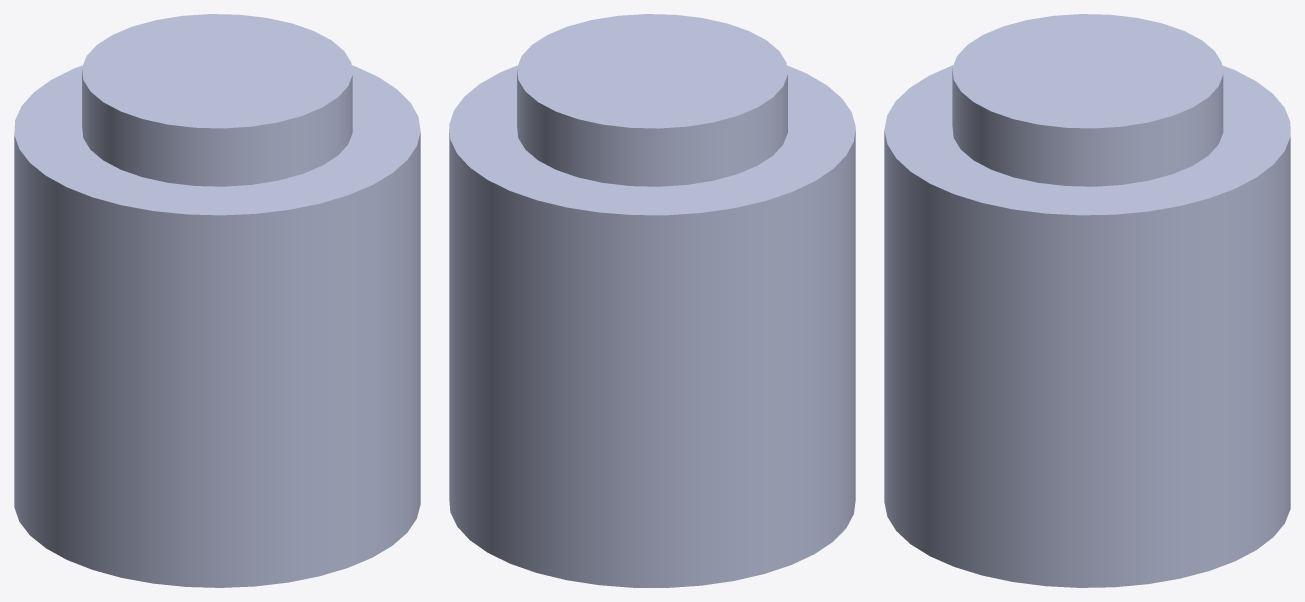
The picture shows the model from 3 angles, left to right: view 1: azimuth 30°, elevation 25°; view 2: azimuth 150°, elevation 25°; view 3: azimuth 270°, elevation 25°; orthographic projection.
Parts seen in each view (by area): view 1: FBXASC060link7BFBXASC062-FBXASC060FBXASC195FBXASC141FBXASC19; view 2: FBXASC060link7BFBXASC062-FBXASC060FBXASC195FBXASC141FBXASC19; view 3: FBXASC060link7BFBXASC062-FBXASC060FBXASC195FBXASC141FBXASC19.
Part boxes in pixels (box(x1,y1,x2,y2)): FBXASC060link7BFBXASC062-FBXASC060FBXASC195FBXASC141FBXASC19: box(14, 14, 420, 587); FBXASC060link7BFBXASC062-FBXASC060FBXASC195FBXASC141FBXASC19: box(449, 14, 855, 587); FBXASC060link7BFBXASC062-FBXASC060FBXASC195FBXASC141FBXASC19: box(884, 14, 1290, 587).
Bounding box in the file's own units: 0.0569 × 0.0569 × 0.0666.
